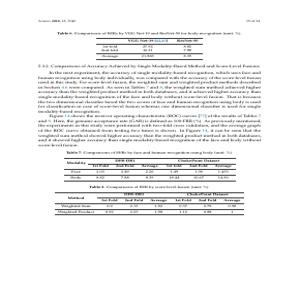table: (49, 154, 246, 218), (88, 36, 209, 64)
text: (36, 63, 261, 149)
